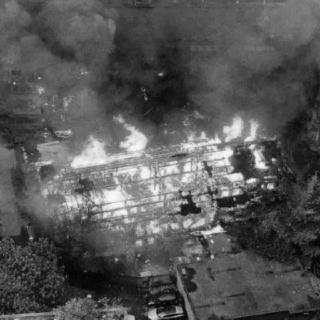Smoke: (8, 4, 316, 100)
